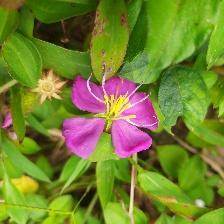malabar melastome: (64, 72, 164, 165), (58, 78, 95, 84)
